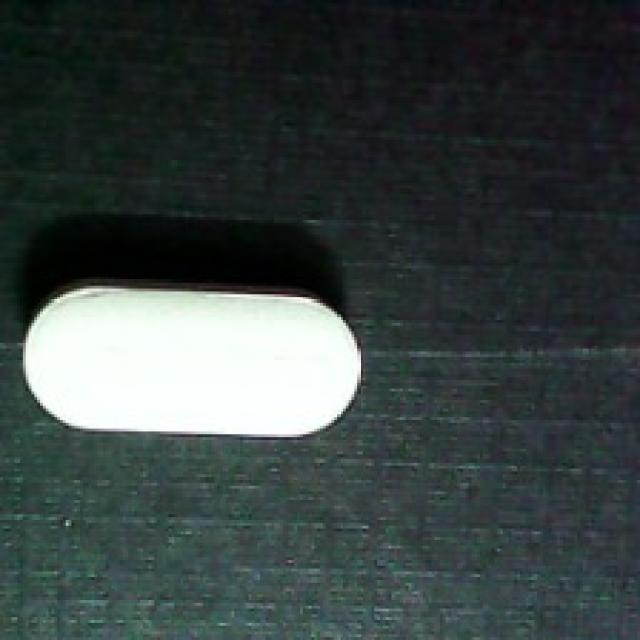no-defect: (17, 274, 363, 440)
